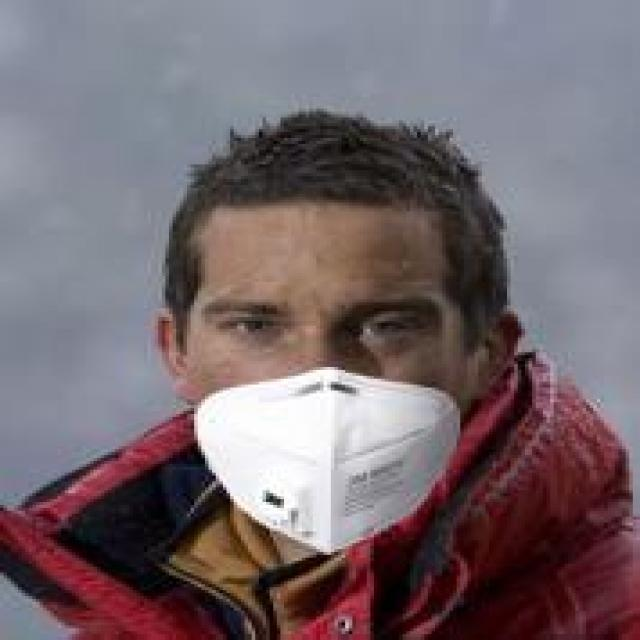mask: (83, 120, 532, 546)
